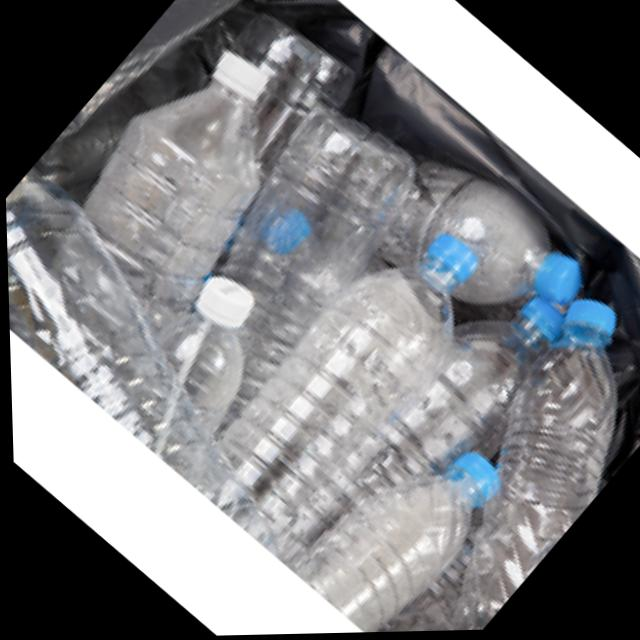plastic_water_bottles: (170, 201, 513, 558), (412, 279, 640, 584), (69, 31, 324, 292), (303, 409, 527, 635), (149, 245, 312, 411)
